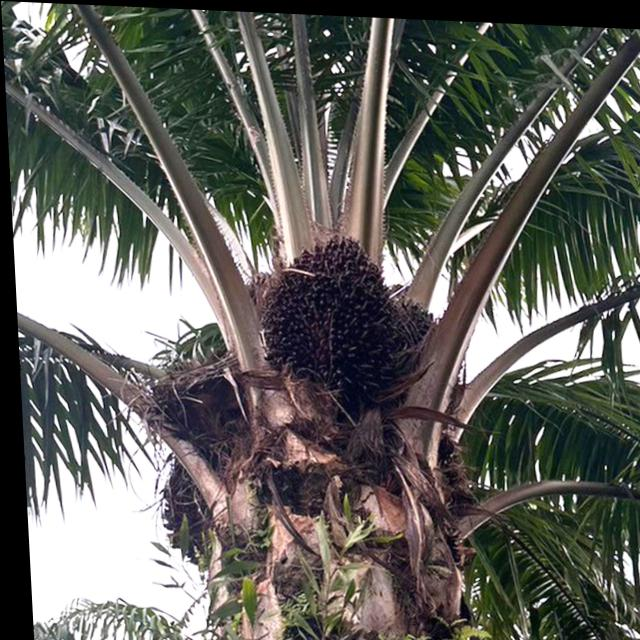ripe: (238, 220, 430, 392)
